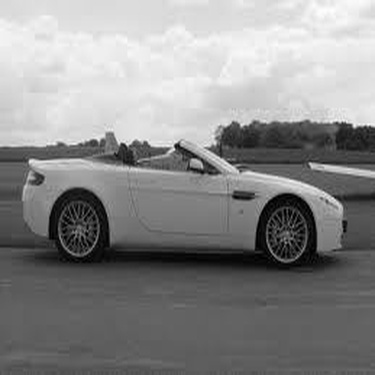car: (2, 124, 359, 271)
